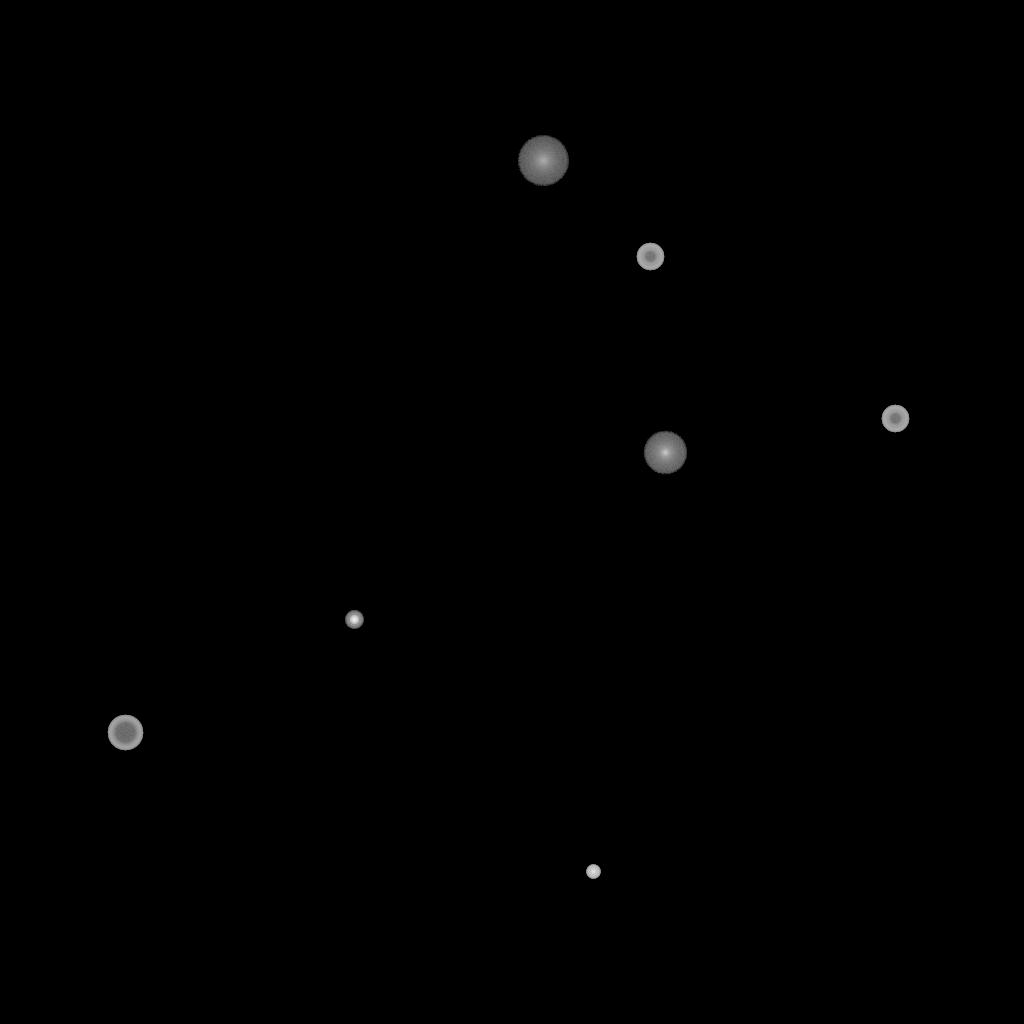depth:-20: (345, 611, 363, 629)
depth:-30: (586, 865, 600, 879)
depth:-50: (636, 243, 664, 271), (881, 405, 909, 433)
depth:-60: (107, 715, 143, 751)
depth:10: (643, 431, 687, 475)
depth:20: (517, 136, 569, 186)
